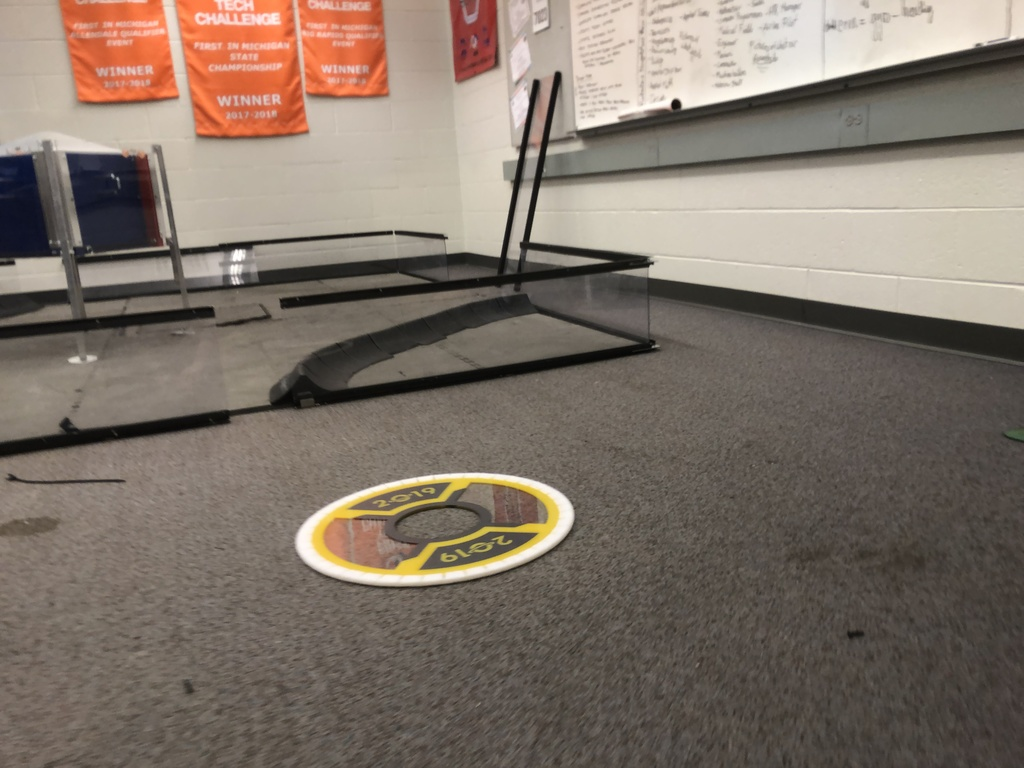hatch_panel: (281, 460, 593, 585)
